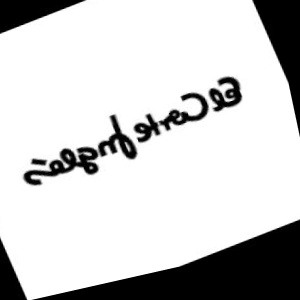corte_ingles: (219, 7, 272, 102)
